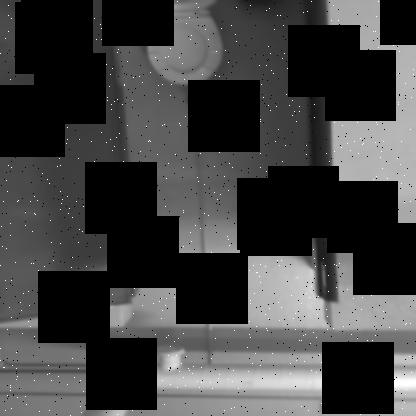Porte: (0, 1, 341, 328)
